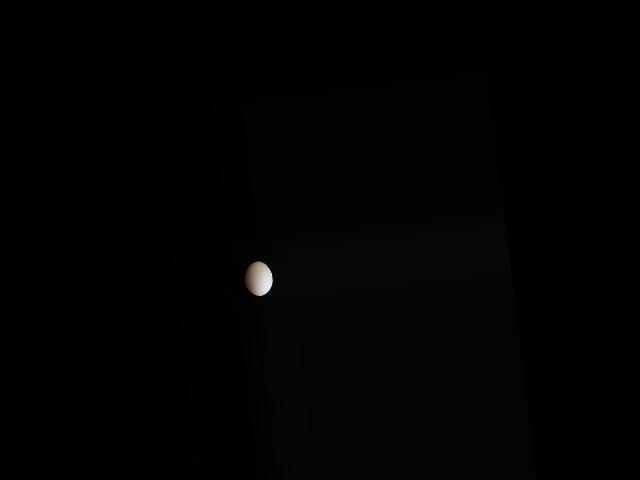egg: (242, 259, 274, 296)
